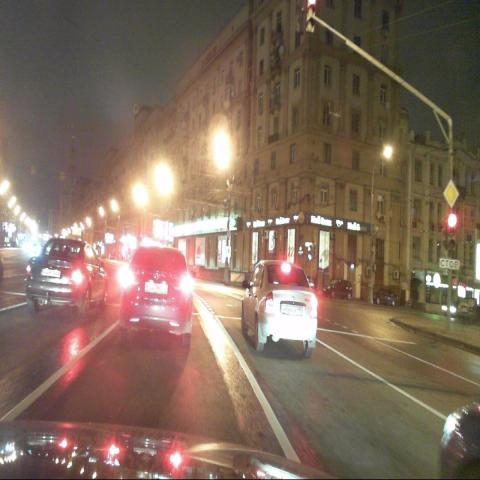2_1: (443, 180, 458, 208)
6_16: (439, 258, 459, 269)
